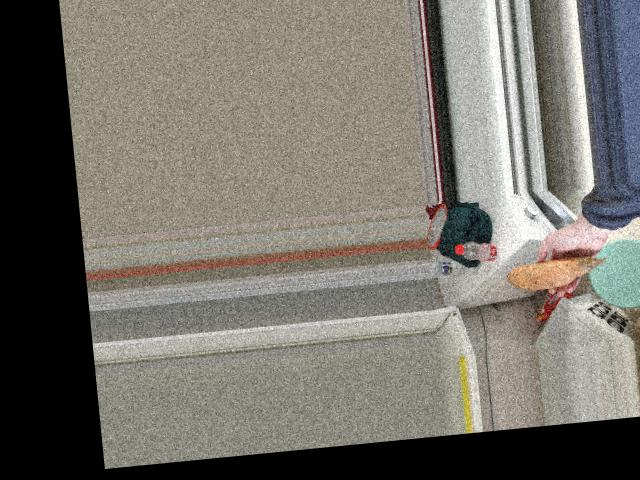sweet_potato: (513, 252, 602, 286)
